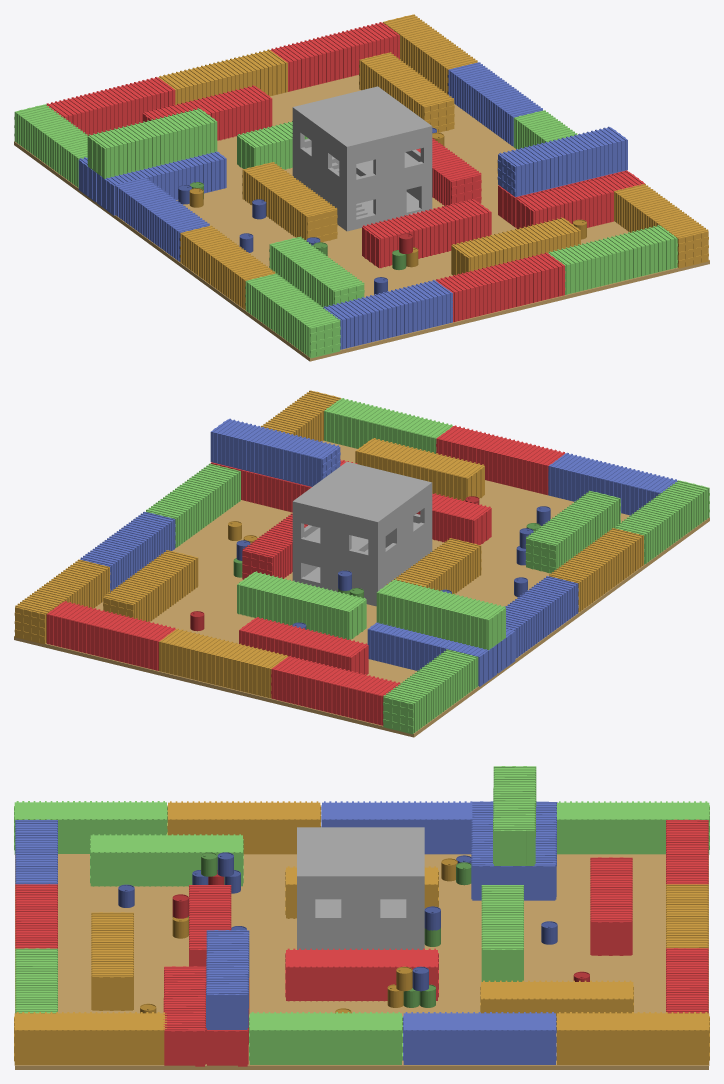
File: ContainersMap.fbx
The picture shows the model from 3 angles, top to bottom: view 1: azimuth 30°, elevation 25°; view 2: azimuth 150°, elevation 25°; view 3: azimuth 270°, elevation 25°; orthographic projection. The views are drawn at different scales.
Visible parts, largest first — view 1: Cube.001, Cube.002, Cube.029, Cube.028, Cube.011, Cube.006, Cube.005, Cube.004, Cube.010, Cube.016, Cube.008, Cube.014 (+18 smaller); view 2: Cube.001, Cube.002, Cube.028, Cube.029, Cube.007, Cube.016, Cube.014, Cube.017, Cube.013, Cube.005, Cube.026, Cube.006 (+17 smaller); view 3: Cube.001, Cube.002, Cube.018, Cube.015, Cube.019, Cube.012, Cube.026, Cube.013, Cube.009, Cube.022, Cube.023, Cube.010 (+18 smaller).
Boxes of the visible parts, x1,y1,x2,y2 form: Cube.001: (14, 75, 709, 361); Cube.002: (292, 86, 432, 231); Cube.029: (497, 126, 627, 197); Cube.028: (87, 108, 217, 178); Cube.011: (548, 225, 677, 294); Cube.006: (323, 279, 452, 349); Cube.005: (435, 252, 565, 322); Cube.004: (362, 199, 491, 268); Cube.010: (245, 273, 340, 358); Cube.016: (270, 22, 399, 91); Cube.008: (242, 162, 337, 242); Cube.014: (46, 77, 175, 135); Cube.001: (14, 440, 709, 737); Cube.002: (292, 461, 432, 606); Cube.028: (376, 579, 505, 650); Cube.029: (210, 418, 340, 486); Cube.007: (237, 571, 366, 639); Cube.016: (46, 601, 175, 670); Cube.014: (271, 656, 400, 725); Cube.017: (159, 628, 287, 698); Cube.013: (383, 649, 478, 734); Cube.005: (436, 425, 564, 495); Cube.026: (525, 490, 620, 573); Cube.006: (548, 452, 677, 515); Cube.001: (15, 854, 708, 1069); Cube.002: (297, 827, 424, 949); Cube.018: (403, 1012, 556, 1064); Cube.015: (556, 1012, 709, 1065); Cube.019: (249, 1012, 402, 1064); Cube.012: (14, 1012, 167, 1065); Cube.026: (90, 834, 243, 886); Cube.013: (556, 801, 709, 854); Cube.009: (285, 948, 438, 1001); Cube.022: (167, 801, 320, 854); Cube.023: (321, 801, 474, 854); Cube.010: (14, 801, 167, 854).
Size of the model in its own units: 5019 by 1053 by 6418.
